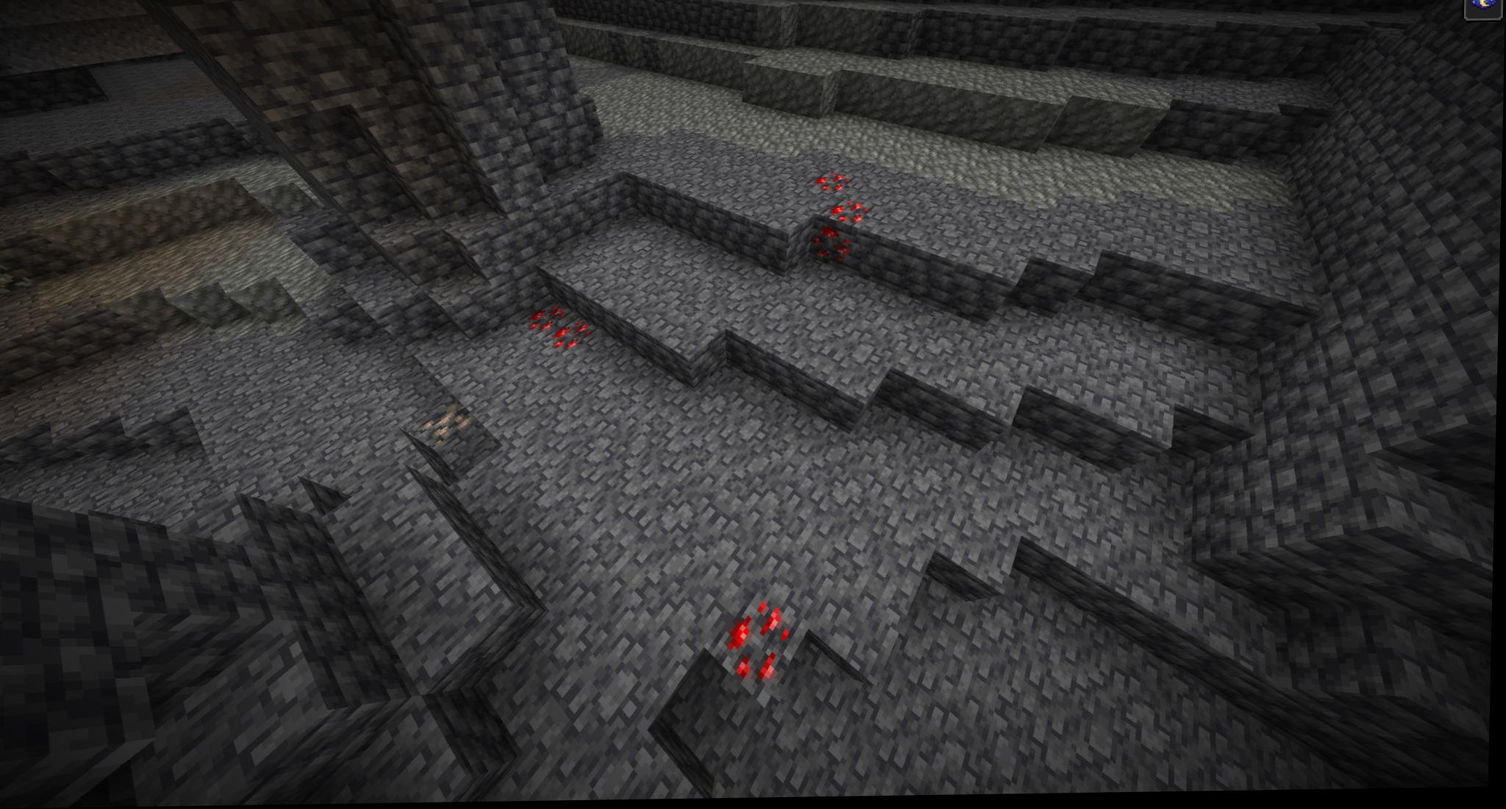iron ore: (412, 400, 484, 448)
redstone ore: (718, 598, 793, 692), (812, 222, 850, 268), (826, 199, 881, 229), (522, 302, 571, 332), (555, 318, 588, 356), (812, 169, 854, 196)
